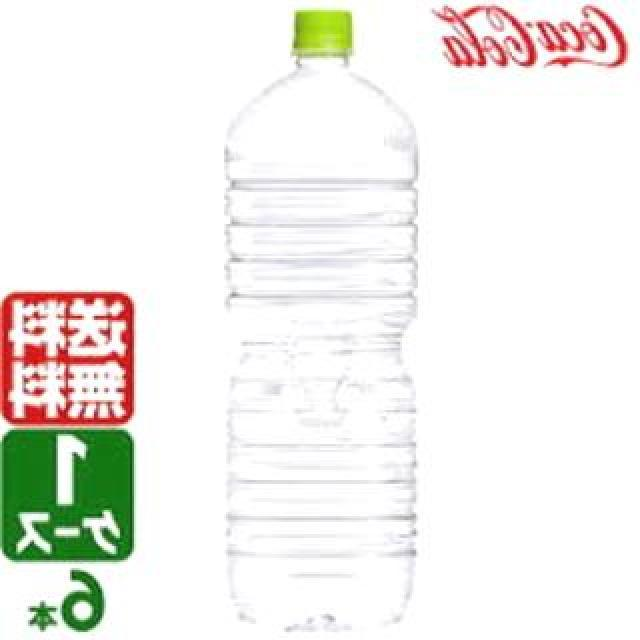Pet_Bottle: (217, 10, 419, 640)
